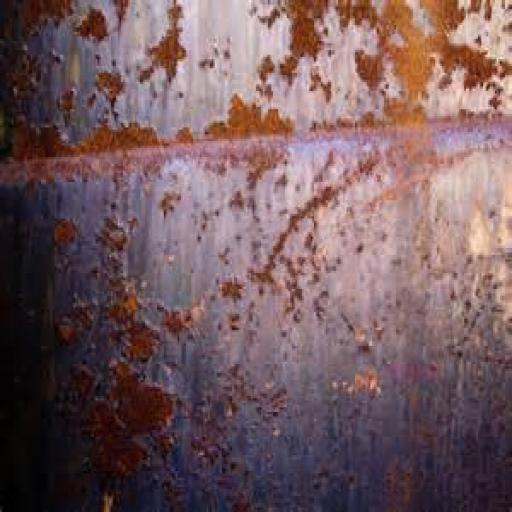corrosion: (24, 200, 189, 485), (259, 0, 510, 127), (0, 25, 195, 158), (202, 53, 296, 137), (15, 0, 106, 36), (55, 221, 84, 271)
